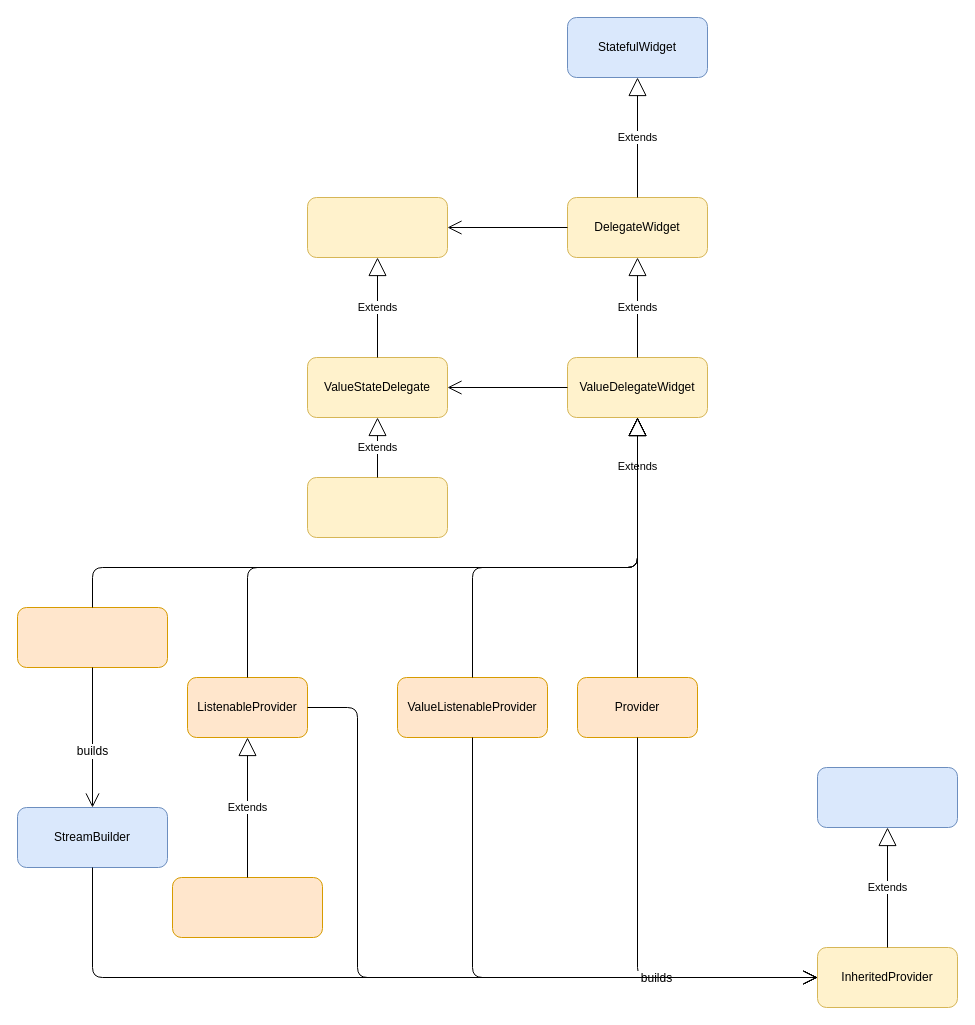
Image size: 975x1025. Some labels were removed from this diagram. The box of each missing label's shape, as (x1, y1, x2, y2) in pixels:
BuilderStateDelegate: (306, 476, 448, 538)
ChangeNotifierProvider: (172, 876, 322, 938)
InheritedWidget: (816, 766, 958, 828)
StateDelegate: (306, 196, 448, 258)
StreamProvider: (16, 606, 168, 668)
